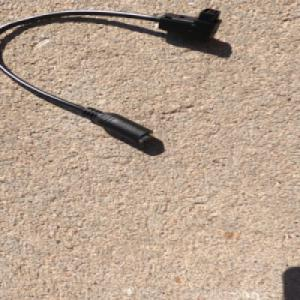Wire: (0, 7, 224, 145)
